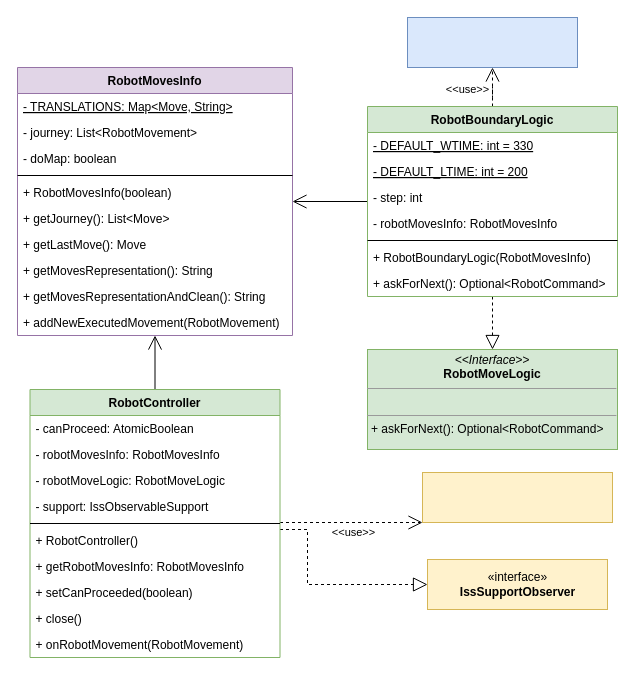
Some shapes in this 635 by 678 pixel diagram are drawn without their labels. The centre of each missing label's shape, as x and y in pixels:
«interface» CommandFactory: (492,42)
«interface» IssObservableSupportFactory: (517,497)
